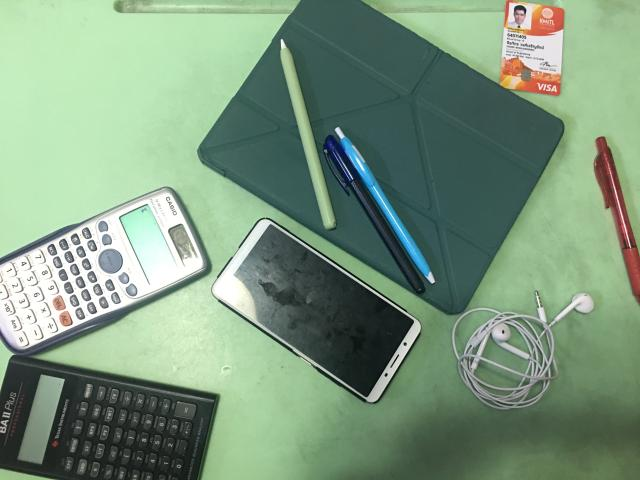Mobile phone: (211, 219, 421, 402)
Pen: (324, 135, 424, 291), (335, 128, 435, 284), (594, 136, 640, 302)
wire: (452, 291, 594, 410)
